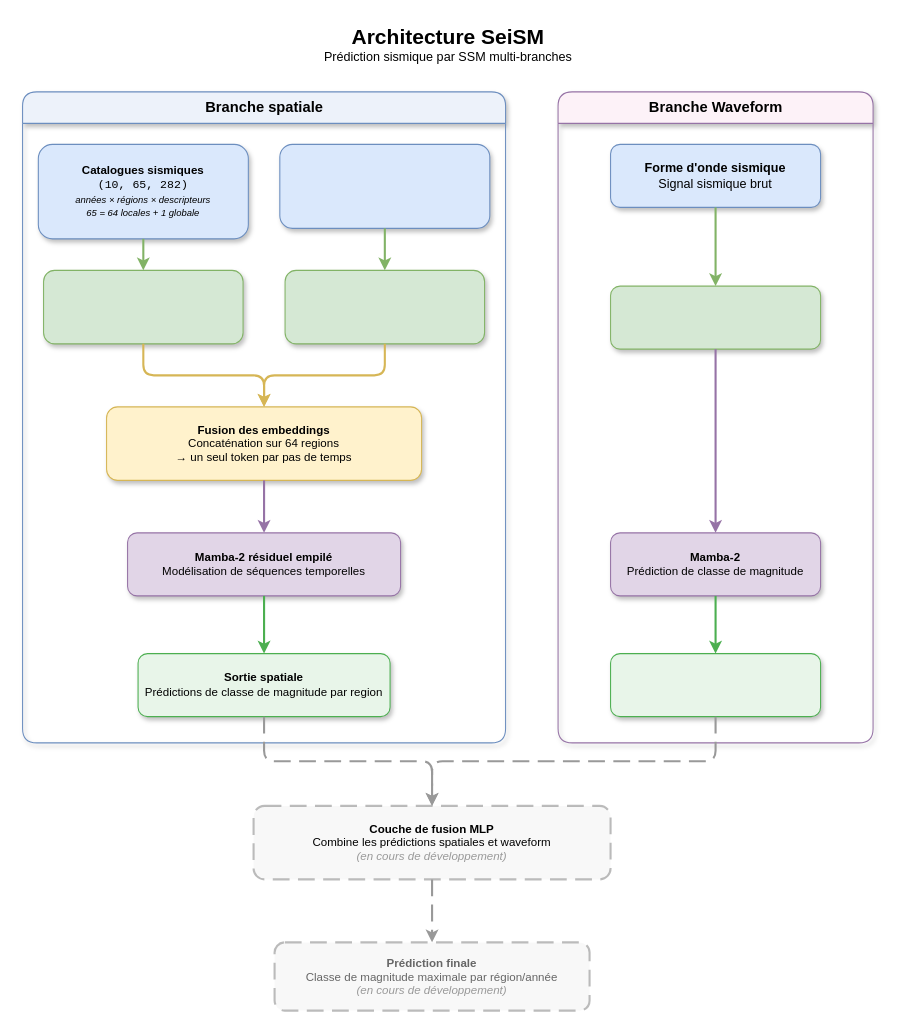
Some shapes in this 898 by 1029 pixel diagram are drawn without their labels. Here are the shapes that lost their labels. From the top down, the centre of each, then its label:
At (x=385, y=187): "Cartes géologiques (10, 64, 50, 50, 5) années × régions × H × W × canaux".
At (x=143, y=308): "Encodeur de catalogue 4x FC + LeakyReLU 282-d → 32-d".
At (x=385, y=308): "Encodeur de cartes ResNet CNN (5,50,50) → 32-d".
At (x=716, y=318): "Embedding de forme d'onde CNN + Conv1D".
At (x=716, y=686): "Sortie forme d'onde Classe de magnitude prédite".
